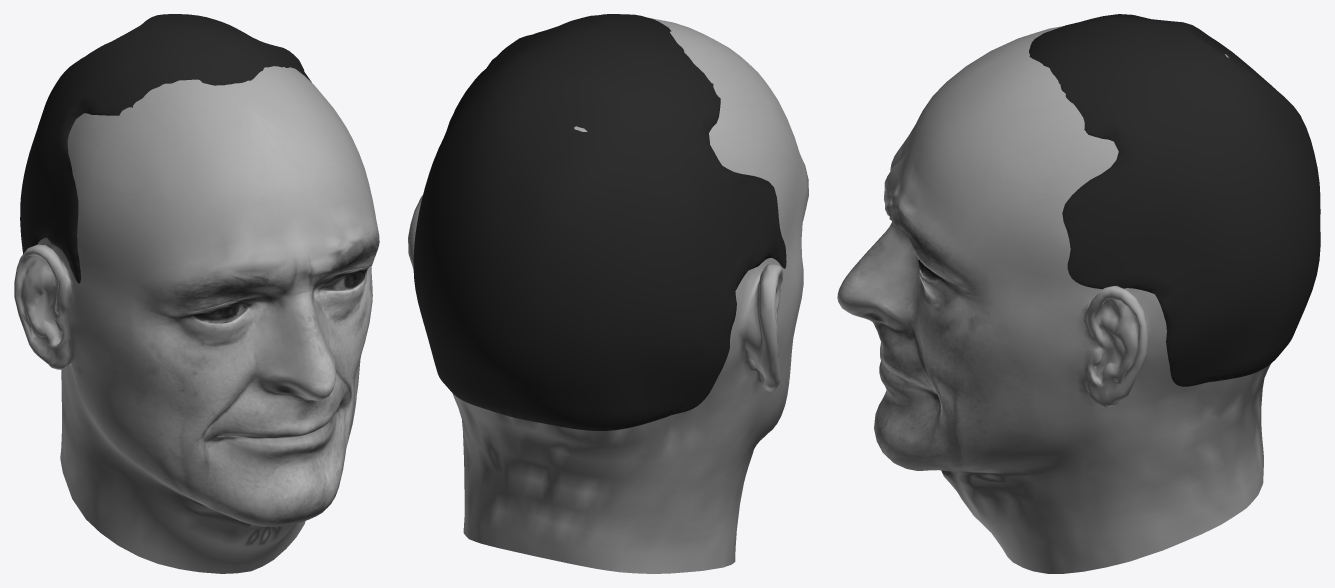
File: chirac.obj
The picture shows the model from 3 angles, left to right: view 1: azimuth 30°, elevation 25°; view 2: azimuth 150°, elevation 25°; view 3: azimuth 270°, elevation 25°; orthographic projection. The views are drawn at different scales.
Parts seen in each view (by area): view 1: HeadHires, cheveux_final; view 2: cheveux_final, HeadHires; view 3: HeadHires, cheveux_final.
Part boxes in pixels (left/top/right/bottom): HeadHires: left=14, top=66, right=379, bottom=573; cheveux_final: left=20, top=14, right=311, bottom=283; cheveux_final: left=413, top=14, right=786, bottom=430; HeadHires: left=408, top=17, right=808, bottom=573; HeadHires: left=837, top=26, right=1270, bottom=573; cheveux_final: left=1029, top=14, right=1320, bottom=386.
Size of the model in its own units: 2.01 by 2.87 by 2.41.
